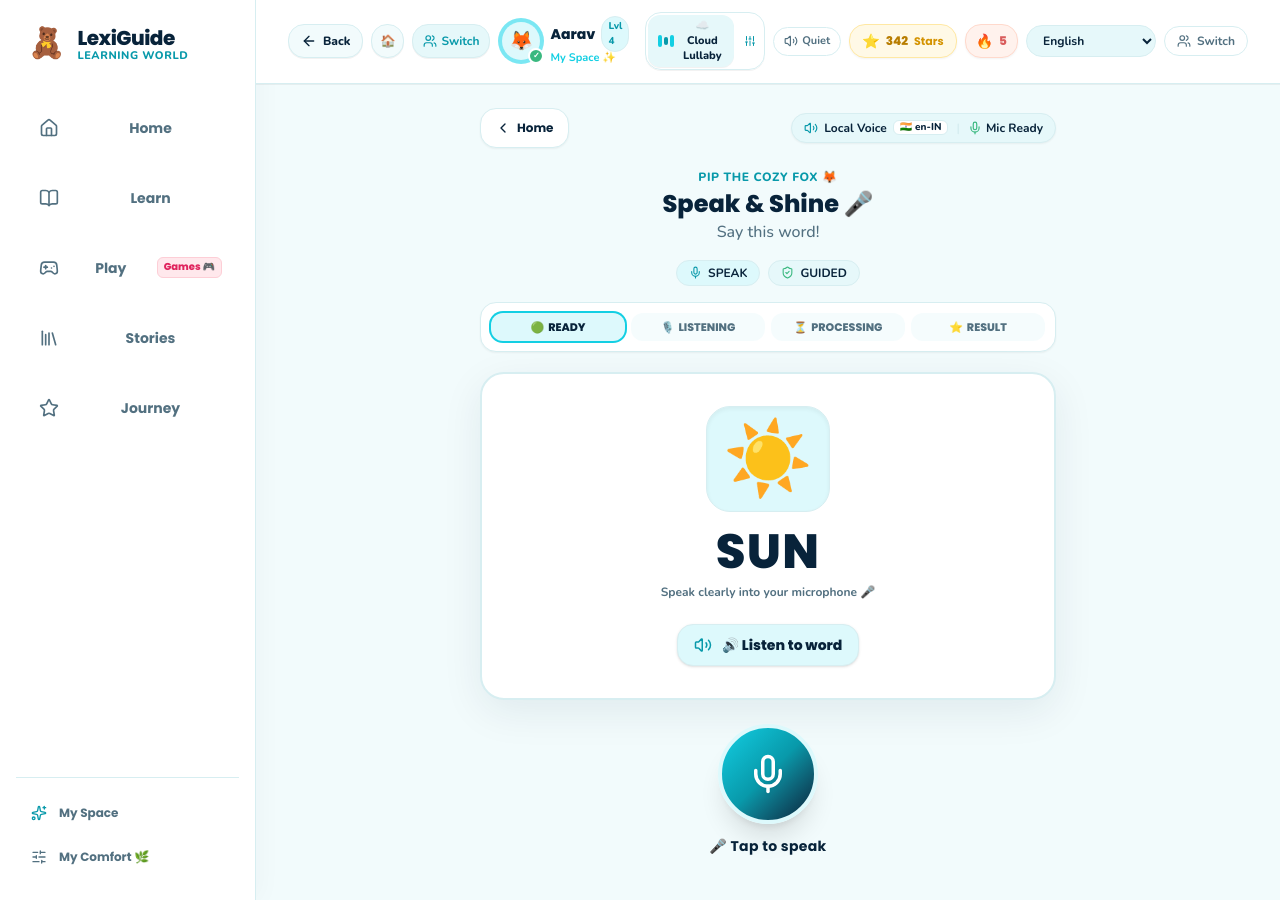
Test case: Step 5: Real Browser Microphone + Speech Pipeline Test Suite › 17. Existing Speak & Shine demo flow still works with retry and next
expect the text "Say this word!" is shown: met, box [717,220,819,242]
Click the button named "start recording" at (768, 774), box [718,724,818,824]
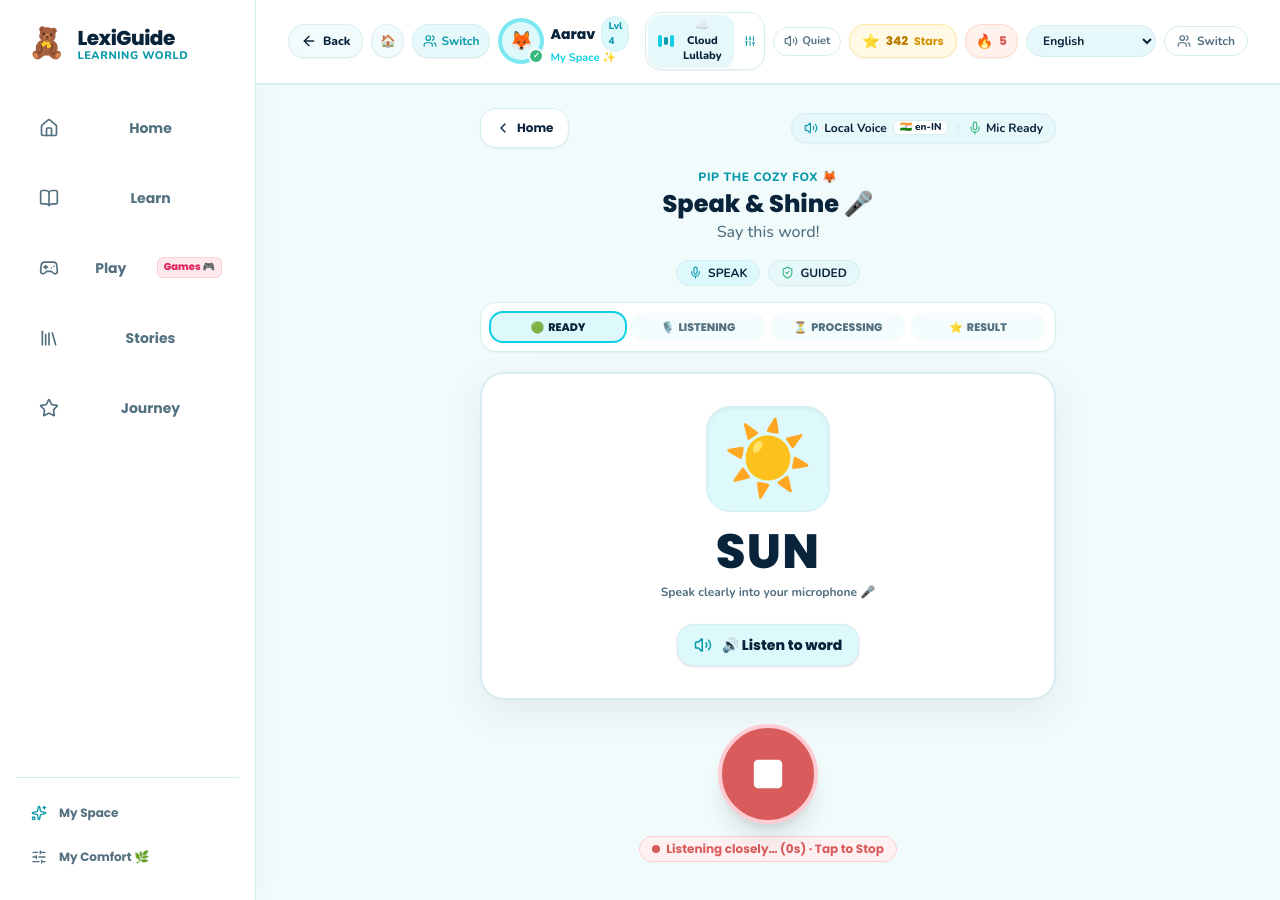
Click the button named "stop recording" at (768, 774), box [718,724,818,824]
(page scrolled)
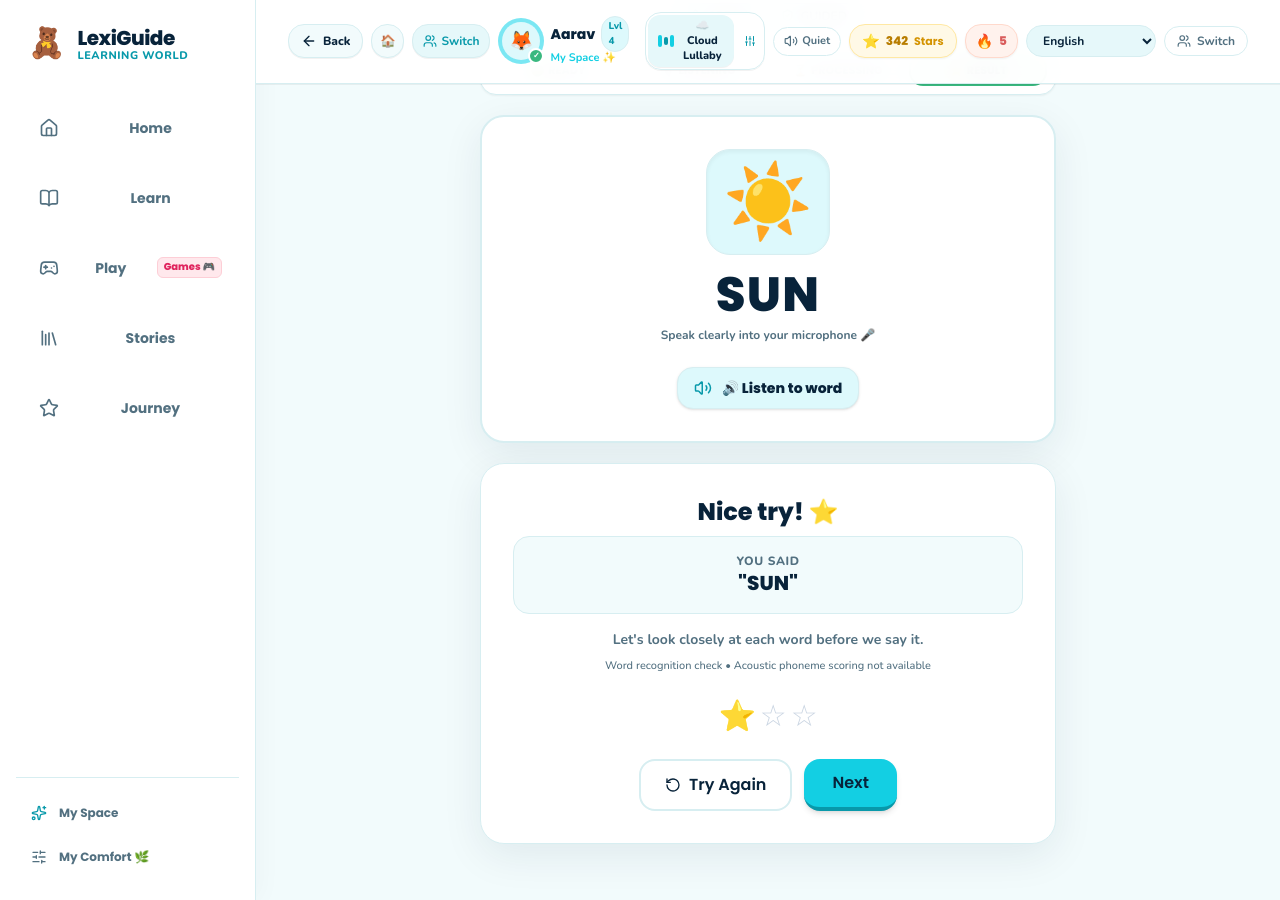
expect the text "Nice try! ⭐" is shown: met, box [698,495,838,528]
Click the button "Next" at (851, 784), box [804,758,897,810]
(page scrolled)
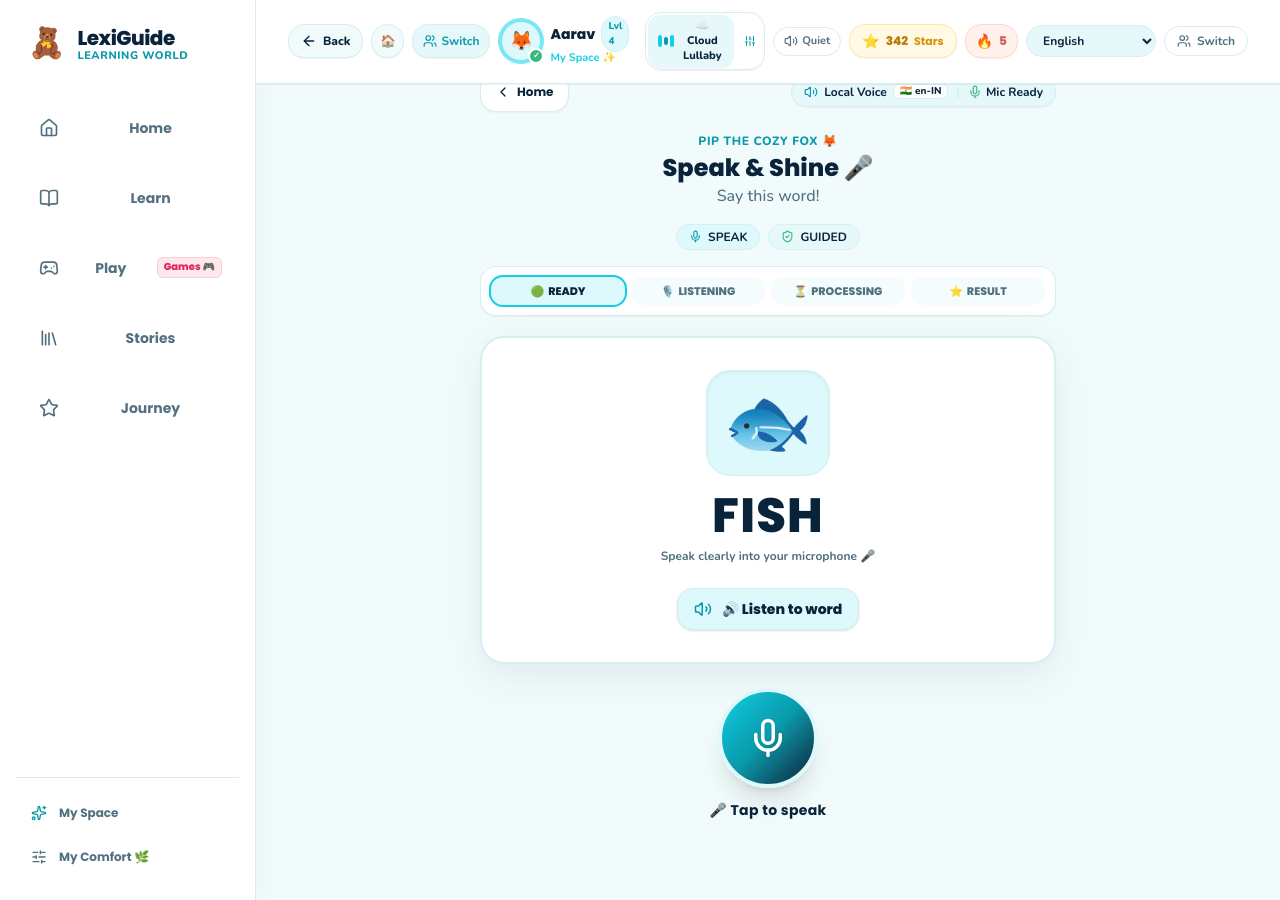
expect the text "FISH" is shown: met, box [712,482,824,549]
